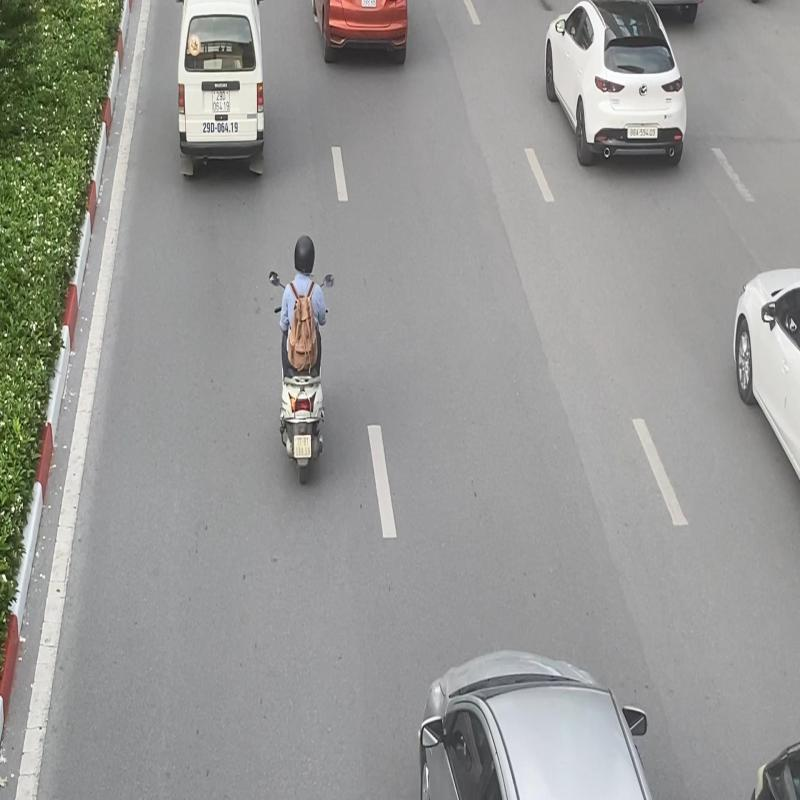helmet: (294, 234, 316, 274)
licenseplate: (294, 434, 311, 457)
motorcyclist: (268, 233, 334, 486)
